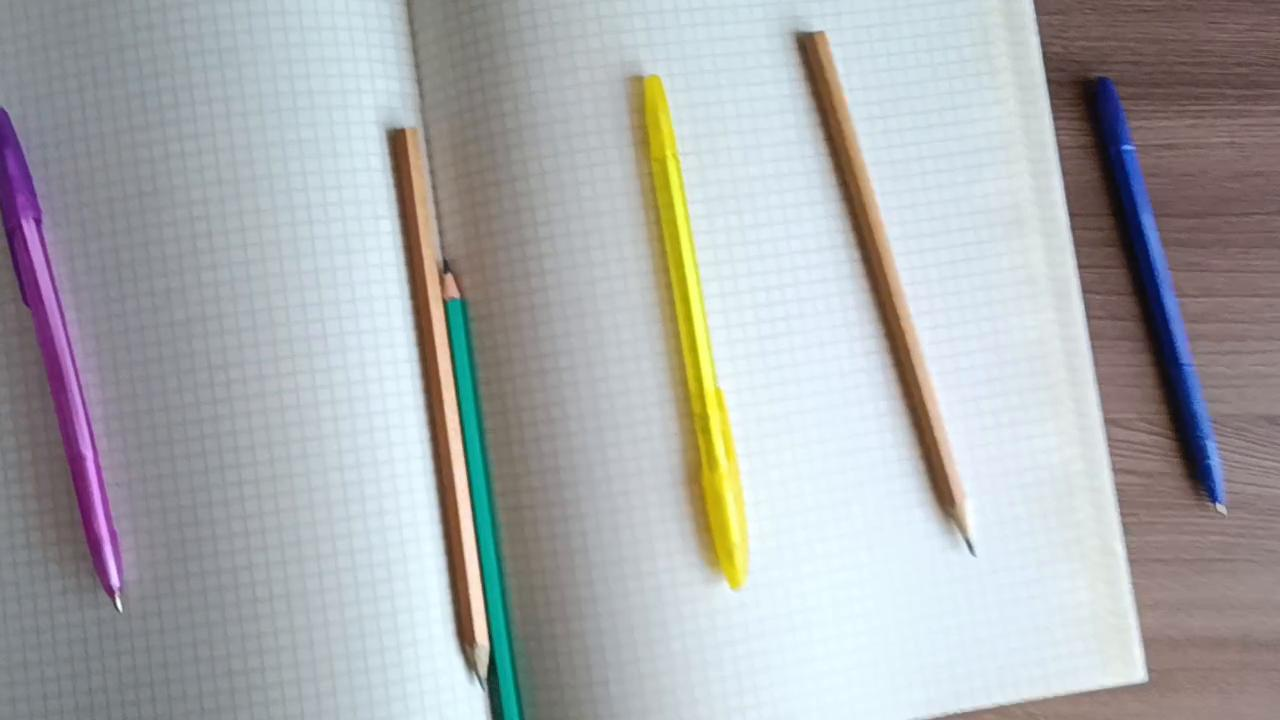pen: (1080, 70, 1233, 523), (0, 95, 130, 615), (639, 75, 757, 598)
pencil: (799, 32, 984, 561), (367, 123, 495, 691), (439, 255, 528, 720)
